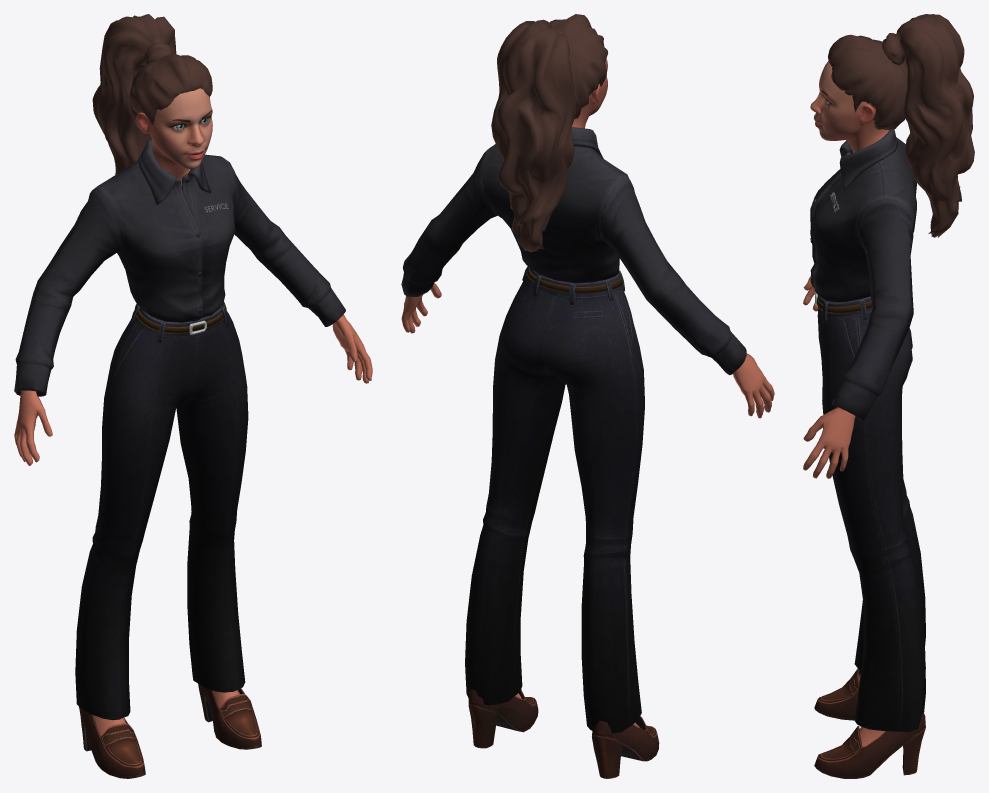
File: WAITER.fbx
The picture shows the model from 3 angles, left to right: view 1: azimuth 30°, elevation 25°; view 2: azimuth 150°, elevation 25°; view 3: azimuth 270°, elevation 25°; orthographic projection. The views are drawn at different scales.
Visible parts, largest first — view 1: Wolf3D_Outfit_Bottom, Wolf3D_Outfit_Top, Wolf3D_Hair, Wolf3D_Outfit_Footwear, Wolf3D_Head, Wolf3D_Body; view 2: Wolf3D_Outfit_Bottom, Wolf3D_Outfit_Top, Wolf3D_Hair, Wolf3D_Outfit_Footwear, Wolf3D_Body, Wolf3D_Head; view 3: Wolf3D_Outfit_Bottom, Wolf3D_Outfit_Top, Wolf3D_Hair, Wolf3D_Outfit_Footwear, Wolf3D_Head, Wolf3D_Body.
Boxes of the visible parts, x1=… form: Wolf3D_Outfit_Bottom: x1=75, y1=302, x2=248, y2=720; Wolf3D_Outfit_Top: x1=14, y1=139, x2=345, y2=396; Wolf3D_Hair: x1=92, y1=14, x2=212, y2=174; Wolf3D_Outfit_Footwear: x1=79, y1=683, x2=261, y2=778; Wolf3D_Head: x1=136, y1=88, x2=212, y2=186; Wolf3D_Body: x1=14, y1=314, x2=372, y2=735; Wolf3D_Outfit_Bottom: x1=465, y1=266, x2=644, y2=733; Wolf3D_Outfit_Top: x1=401, y1=127, x2=746, y2=375; Wolf3D_Hair: x1=491, y1=14, x2=607, y2=252; Wolf3D_Outfit_Footwear: x1=468, y1=689, x2=659, y2=778; Wolf3D_Body: x1=401, y1=282, x2=774, y2=727; Wolf3D_Head: x1=572, y1=58, x2=607, y2=128; Wolf3D_Outfit_Bottom: x1=814, y1=289, x2=925, y2=731; Wolf3D_Outfit_Top: x1=810, y1=129, x2=916, y2=421; Wolf3D_Hair: x1=828, y1=14, x2=974, y2=237; Wolf3D_Outfit_Footwear: x1=814, y1=662, x2=925, y2=778; Wolf3D_Head: x1=810, y1=61, x2=888, y2=152; Wolf3D_Body: x1=803, y1=276, x2=884, y2=746.
Size of the model in its own units: 92.79 by 182 by 39.16.
9 materials, 8 textured.
